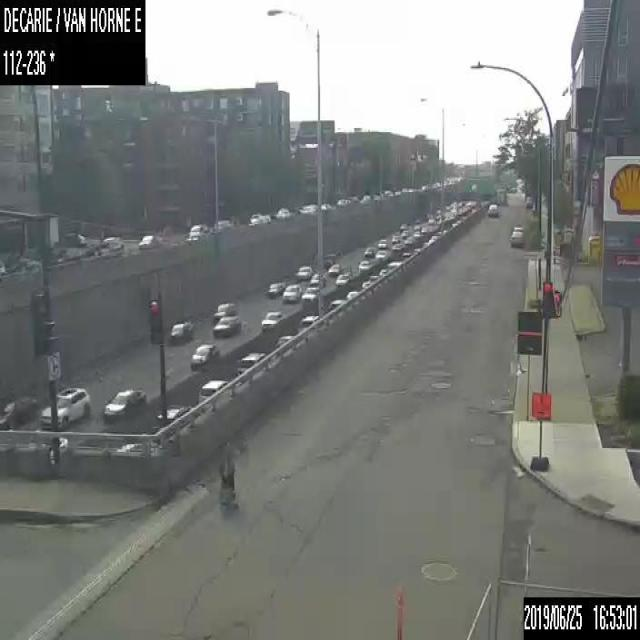construction: (531, 389, 551, 469), (391, 582, 405, 638)
pedestrian: (218, 440, 236, 507)
vehicle: (39, 385, 91, 431), (102, 388, 146, 420), (0, 394, 36, 430), (0, 252, 42, 275), (86, 233, 124, 256), (197, 379, 228, 405), (191, 343, 218, 369), (168, 320, 195, 343), (157, 404, 188, 424), (212, 316, 239, 338), (235, 352, 266, 371), (296, 312, 318, 333), (260, 310, 282, 330), (212, 300, 235, 319), (209, 218, 233, 234), (186, 221, 206, 239), (282, 282, 300, 301), (246, 211, 270, 225), (64, 231, 86, 245), (508, 229, 524, 248), (296, 200, 316, 215), (302, 286, 318, 303), (136, 232, 154, 247), (274, 332, 291, 347), (274, 204, 290, 219), (295, 265, 311, 279), (310, 272, 324, 287), (266, 280, 279, 296), (358, 259, 371, 275), (327, 299, 342, 311), (335, 273, 349, 285), (487, 203, 498, 216), (327, 263, 339, 274), (334, 198, 348, 207), (374, 250, 386, 260), (377, 237, 387, 249), (364, 245, 374, 257), (524, 195, 532, 208), (401, 250, 411, 260), (391, 242, 402, 251), (320, 202, 331, 210), (388, 260, 400, 267), (428, 232, 437, 241), (512, 222, 522, 230), (348, 196, 359, 203), (404, 235, 412, 244), (346, 290, 356, 297), (413, 220, 420, 229), (399, 222, 406, 231), (392, 234, 399, 242), (361, 280, 369, 287), (369, 275, 378, 281), (379, 268, 386, 275), (412, 248, 420, 254), (401, 229, 407, 237), (413, 230, 419, 237), (421, 226, 426, 232)
